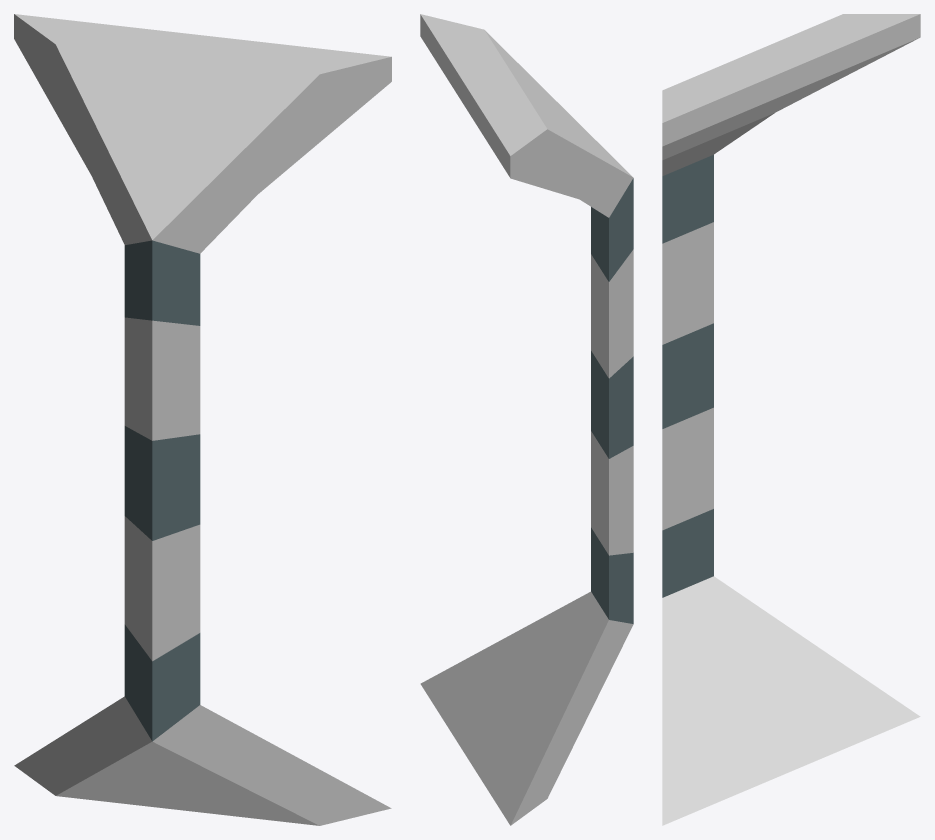
File: scifi_wall_bowed_inside_turn_short.fbx
The picture shows the model from 3 angles, left to right: view 1: azimuth 30°, elevation 25°; view 2: azimuth 150°, elevation 25°; view 3: azimuth 270°, elevation 25°; orthographic projection. The views are drawn at different scales.
Parts seen in each view (by area): view 1: Cube.029; view 2: Cube.029; view 3: Cube.029.
Boxes of the visible parts, left/top/right/bottom form: Cube.029: left=14, top=14, right=391, bottom=825; Cube.029: left=420, top=14, right=633, bottom=825; Cube.029: left=662, top=14, right=920, bottom=825.
Bounding box in the file's own units: 1 × 3 × 1.
